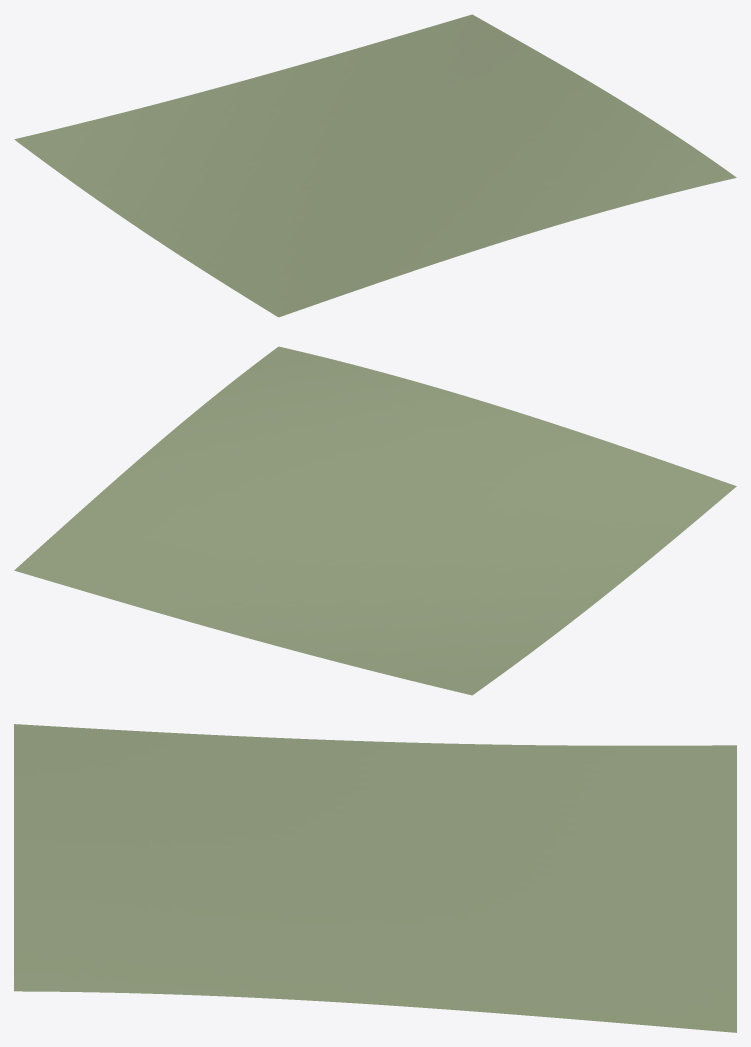
Rendered from alpine-5-14.glb.
3 views of the same model, one above another, from view 1: azimuth 30°, elevation 25°; view 2: azimuth 150°, elevation 25°; view 3: azimuth 270°, elevation 25° (orthographic). The views are drawn at different scales.
Parts seen in each view (by area): view 1: alpine-5-14; view 2: alpine-5-14; view 3: alpine-5-14.
Boxes of the visible parts, box(x1,y1,x2,y2) form: alpine-5-14: box(14, 14, 736, 317); alpine-5-14: box(14, 346, 736, 695); alpine-5-14: box(14, 724, 736, 1032).
Bounding box in the file's own units: 256 × 23.56 × 256.
